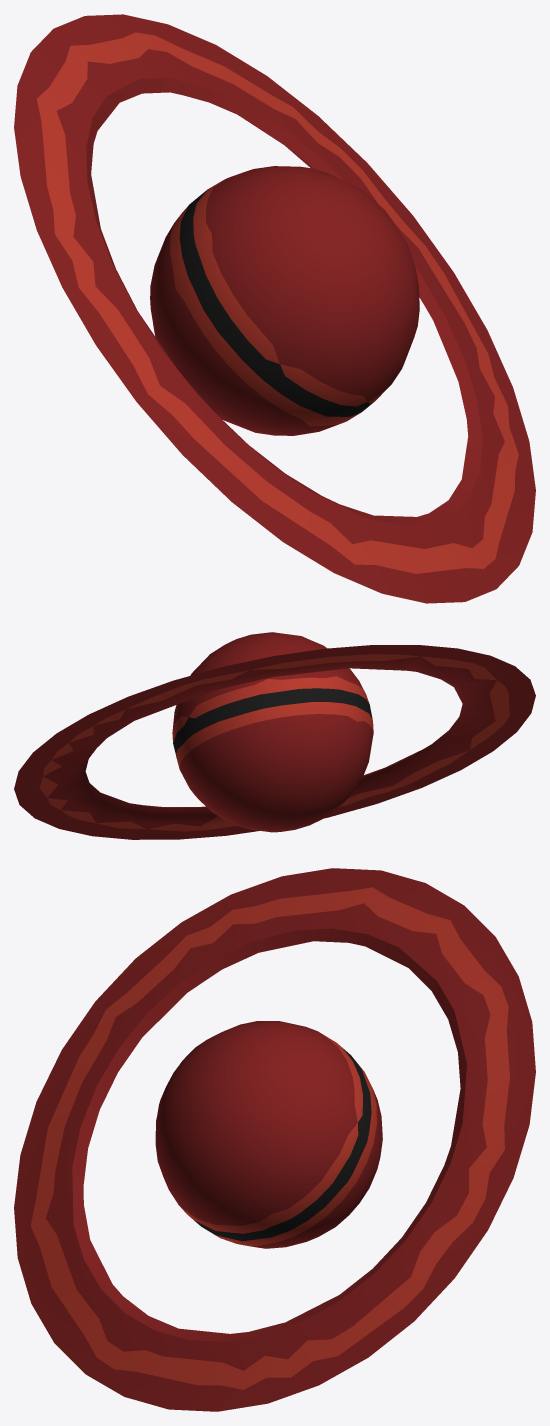
The model's file is planet-10.glb.
3 views of the same model, one above another, from view 1: azimuth 30°, elevation 25°; view 2: azimuth 150°, elevation 25°; view 3: azimuth 270°, elevation 25° (orthographic). The views are drawn at different scales.
Visible parts, largest first — view 1: Planet_10; view 2: Planet_10; view 3: Planet_10.
Boxes of the visible parts, left/top/right/bottom form: Planet_10: left=14, top=14, right=535, bottom=603; Planet_10: left=14, top=632, right=535, bottom=839; Planet_10: left=14, top=868, right=535, bottom=1411.
Bounding box in the file's own units: 5.74 × 4.68 × 5.74.
